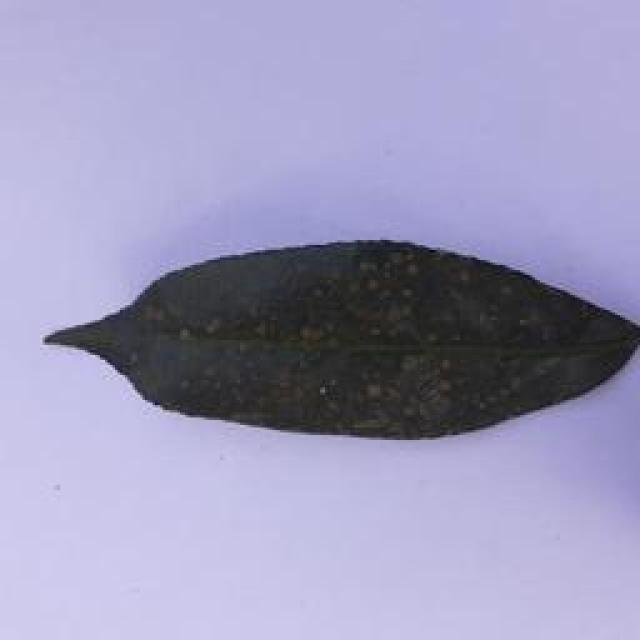Algal Leaf Spot: (39, 229, 640, 446)
